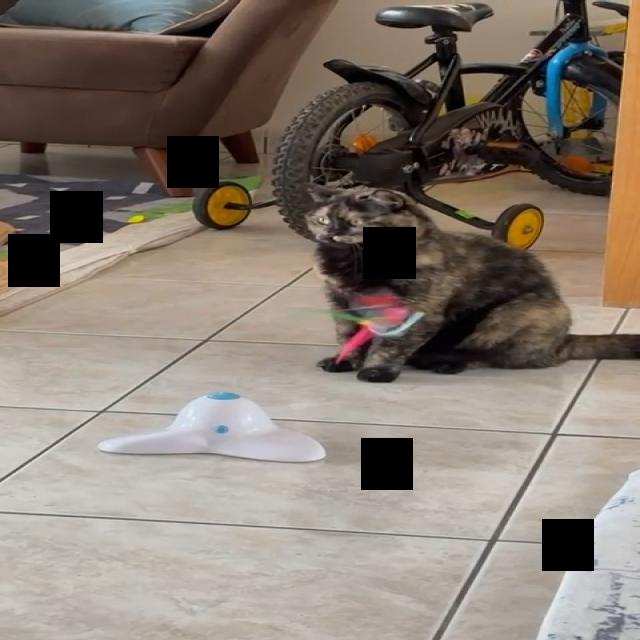authorized: (297, 180, 639, 383)
